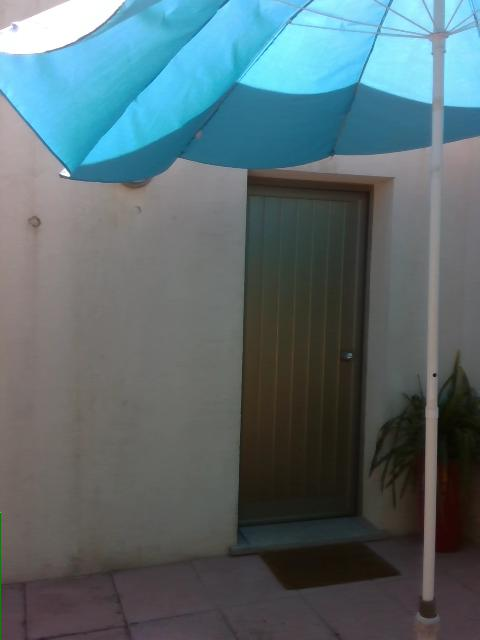door: (233, 166, 396, 544)
